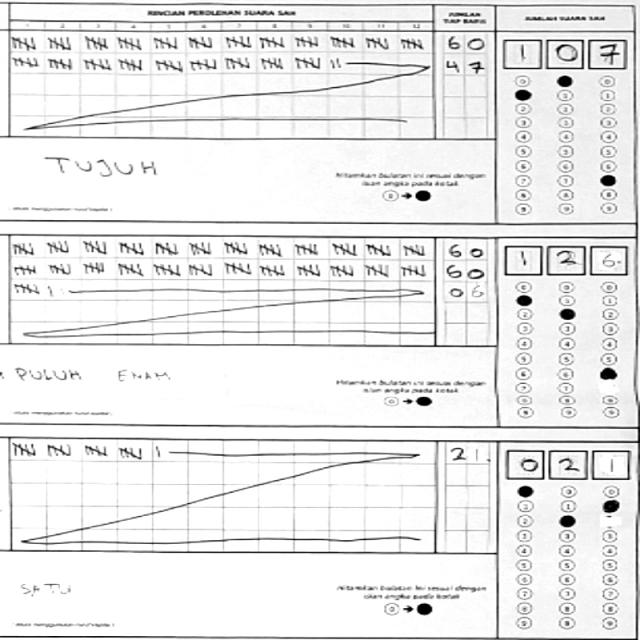Suara: (496, 442, 633, 481), (496, 240, 629, 278), (496, 34, 624, 67)
